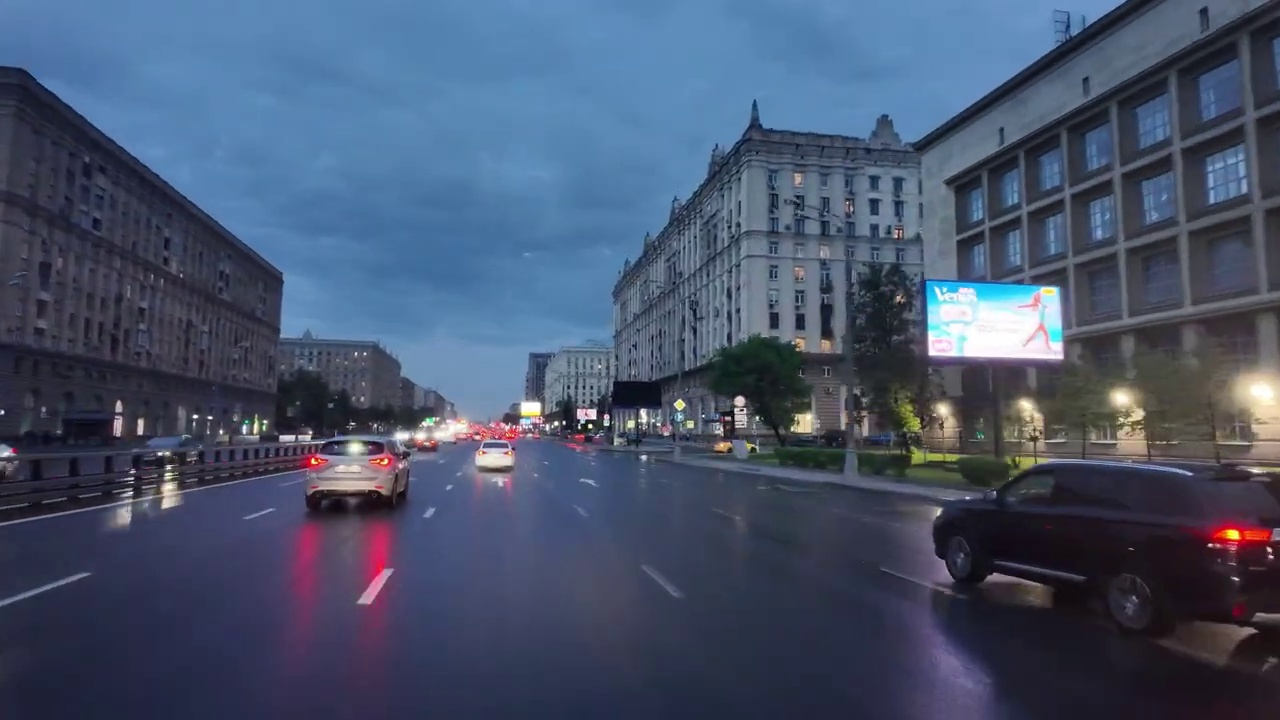acesa: (1242, 378, 1279, 413)
